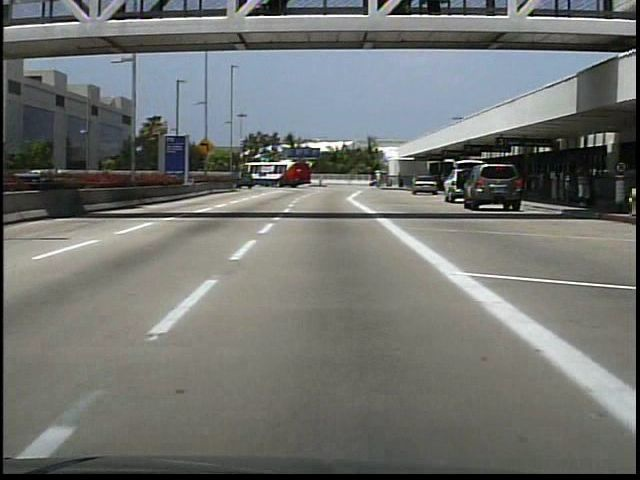person: (570, 164, 593, 212)
